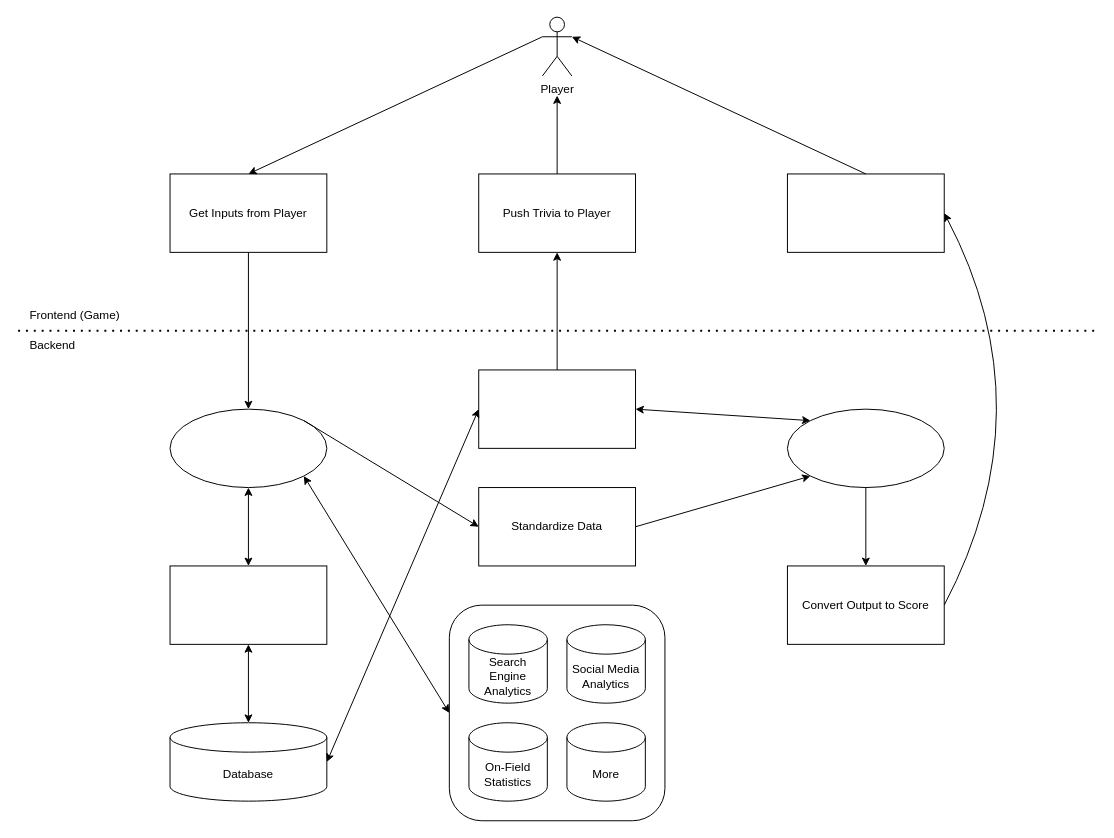
Some shapes in this 1114 by 838 pixel diagram are drawn without their labels. The shapes that lost their labels are listed below. From the top down, each one's centre as x and y in pixels, then its label:
[865,212]: Push Score to Player
[557,408]: Validate Trivia
[248,448]: Query Manager
[865,448]: Obscurity Engine
[248,604]: Validate Inputs
